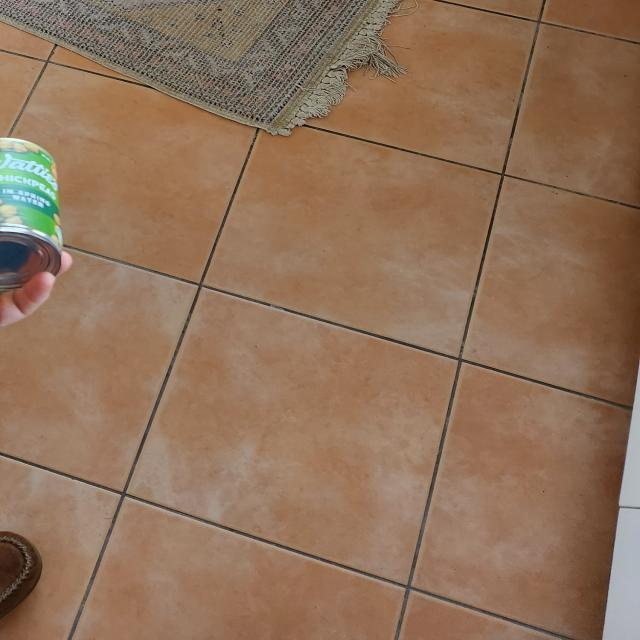chickpeas: (0, 137, 64, 292)
